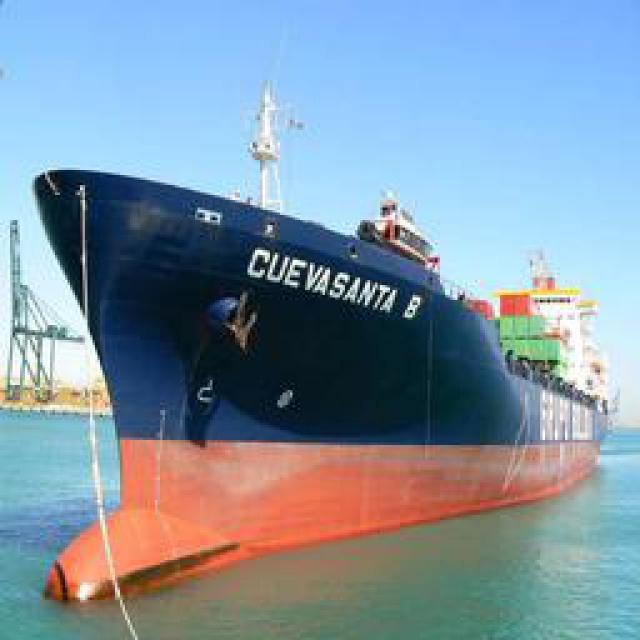Ship: (20, 139, 613, 604)
